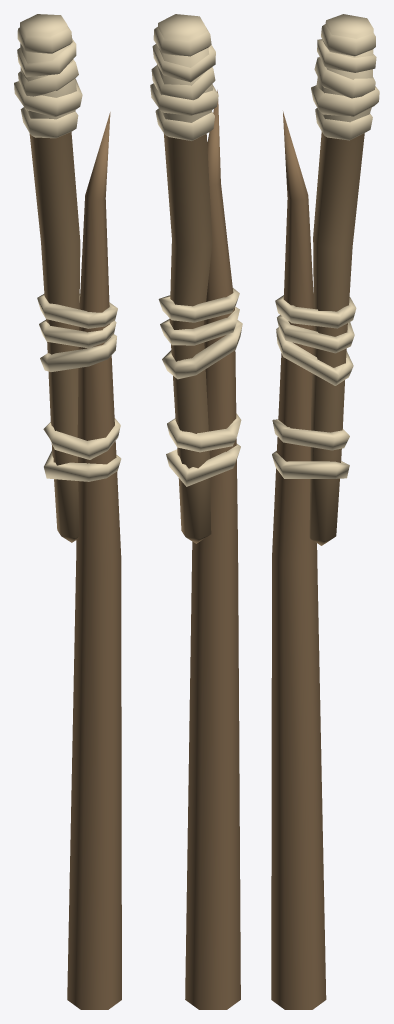
The model's file is rpgpp_ag_torch_standing_01.fbx.
3 renders of one model, left to right at view 1: azimuth 90°, elevation 25°; view 2: azimuth 150°, elevation 25°; view 3: azimuth 270°, elevation 25°, orthographic.
Visible parts, largest first — view 1: rpgpp_ag_torch_standing_01; view 2: rpgpp_ag_torch_standing_01; view 3: rpgpp_ag_torch_standing_01.
Boxes of the visible parts, bbox=[...] form: rpgpp_ag_torch_standing_01: bbox=[14, 14, 121, 1009]; rpgpp_ag_torch_standing_01: bbox=[150, 14, 242, 1009]; rpgpp_ag_torch_standing_01: bbox=[271, 14, 379, 1009].
Size of the model in its own units: 0.1853 by 2.78 by 0.2792.
